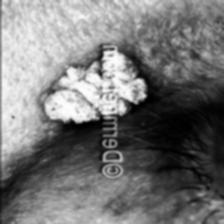Toxin: (44, 59, 100, 126), (118, 54, 146, 120)
